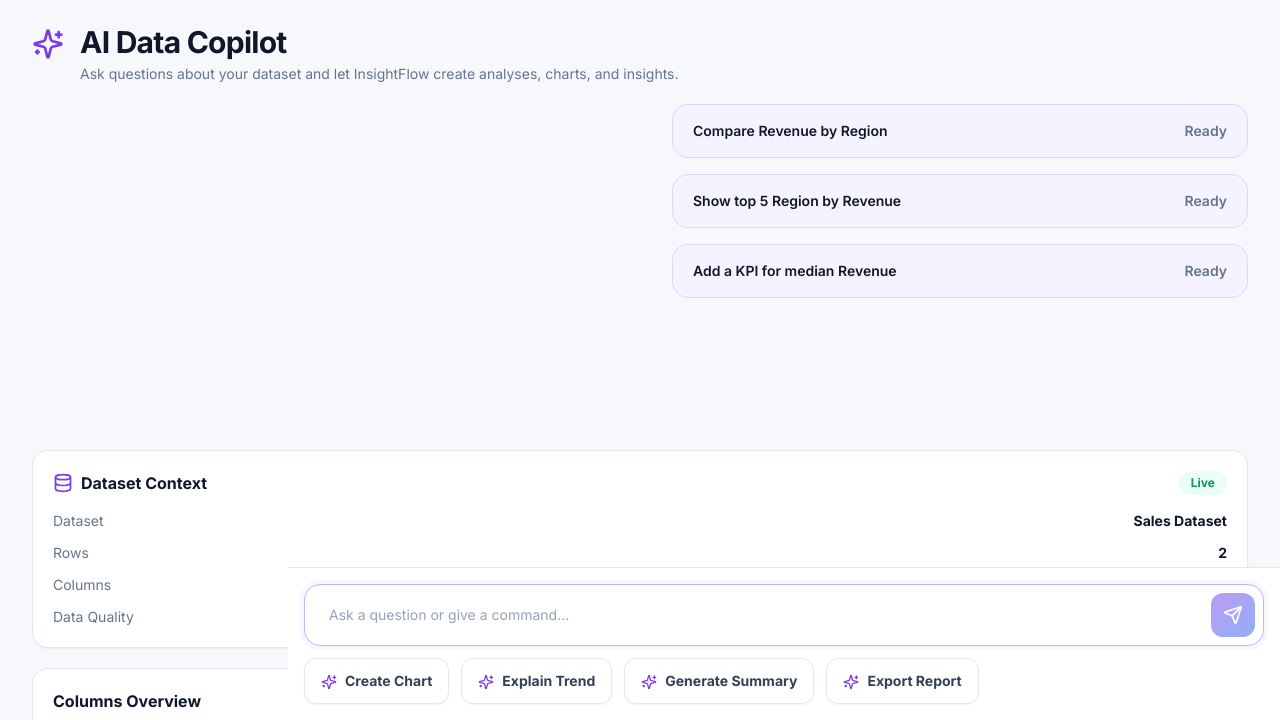
Test case: ChatInterface AI commands validation in UI › processes a valid chart command and adds it to the chat messages
In the field with placeholder "Ask a question or give a command...": coordinates (758, 615) [313, 593, 1203, 637], type "Create revenue chart by region"
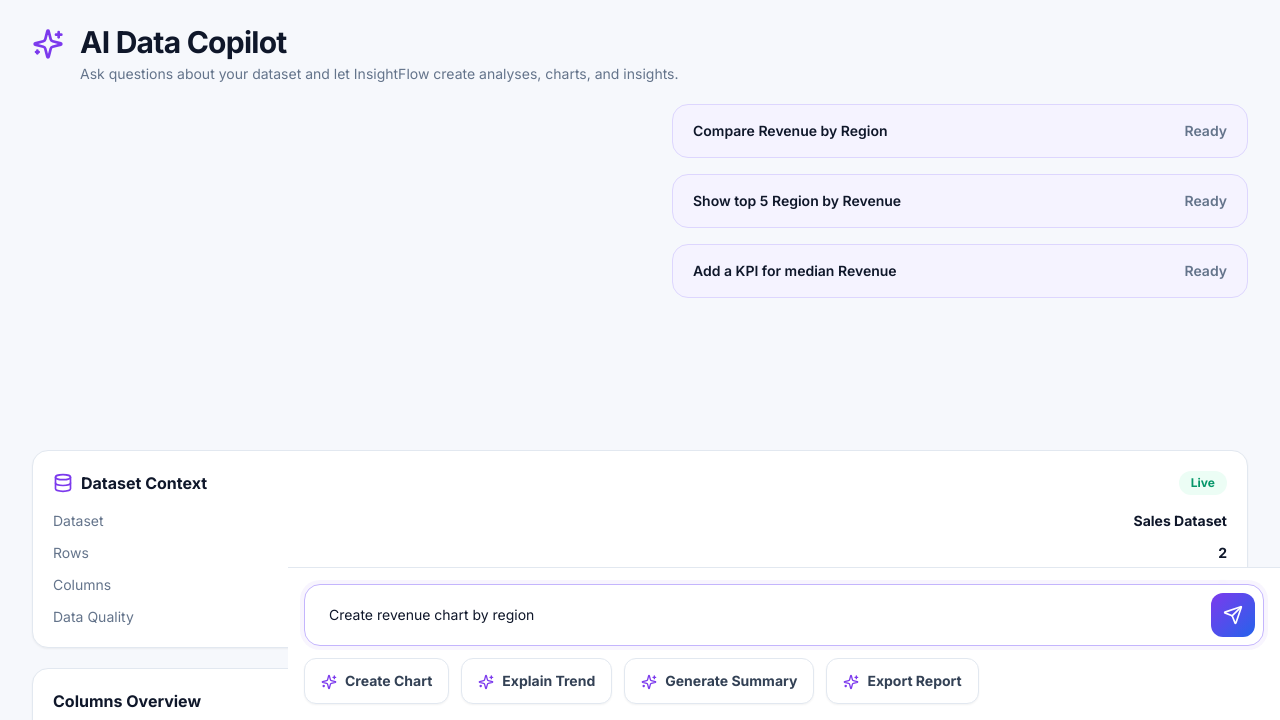
Click the button named "Send command": coordinates (1233, 615) [1211, 593, 1255, 637]
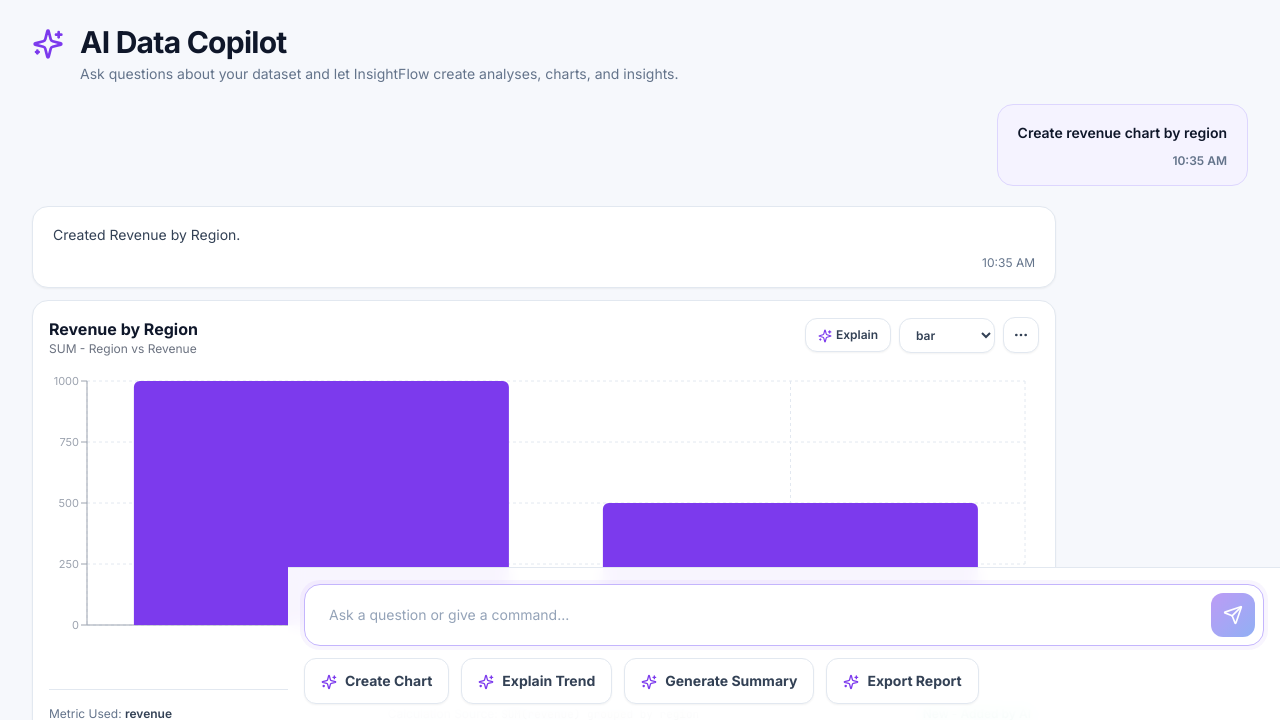
Check: the text "Create revenue chart by region" is shown, box [1018, 121, 1227, 145]
Check: the text "Created Revenue by Region." is shown, box [53, 226, 240, 243]
